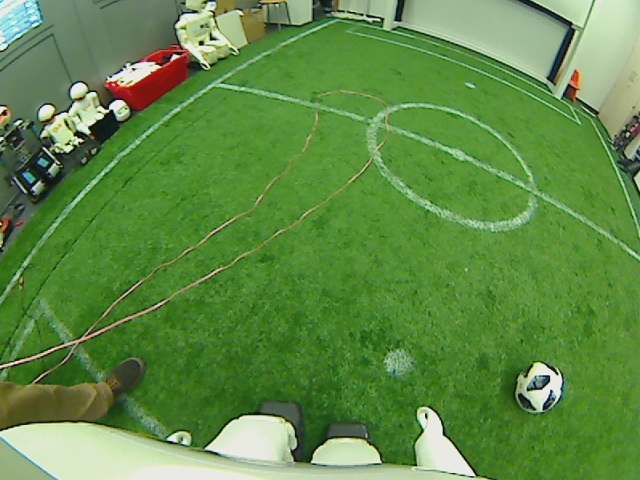ball: (513, 361, 566, 416)
